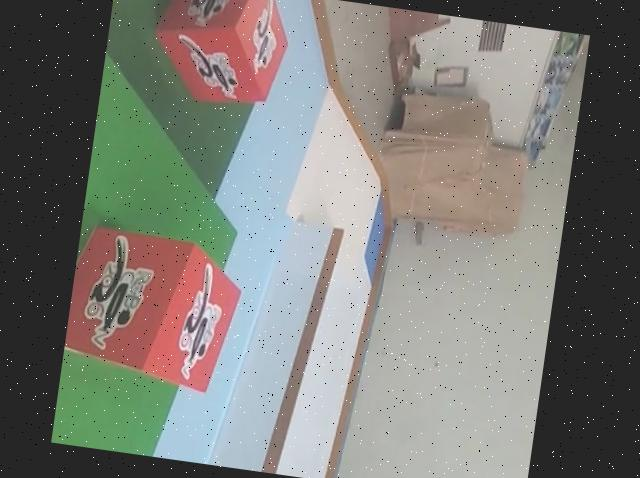R1: (60, 217, 250, 398), (139, 0, 300, 117)
